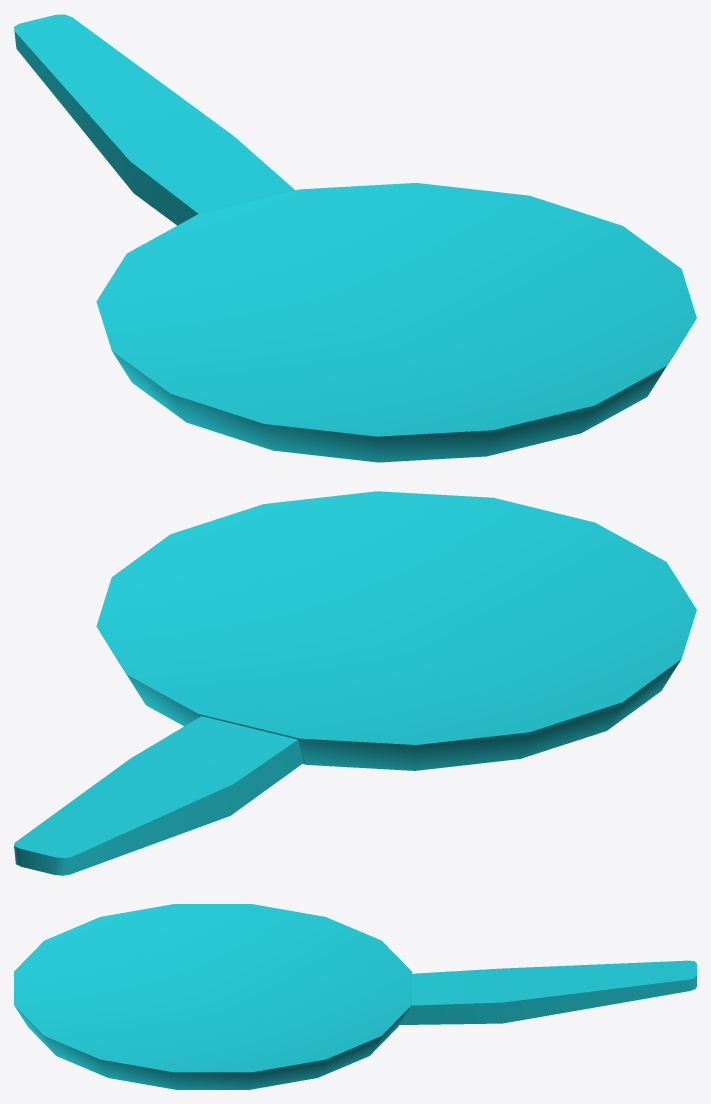
Rendered from Pan.fbx.
The picture shows the model from 3 angles, top to bottom: view 1: azimuth 30°, elevation 25°; view 2: azimuth 150°, elevation 25°; view 3: azimuth 270°, elevation 25°; orthographic projection. The views are drawn at different scales.
Parts seen in each view (by area): view 1: Pan; view 2: Pan; view 3: Pan.
Part boxes in pixels (bbox=[...]): Pan: bbox=[14, 14, 696, 462]; Pan: bbox=[14, 491, 696, 875]; Pan: bbox=[14, 904, 696, 1089].
Size of the model in its own units: 30.68 by 4.13 by 52.65.
